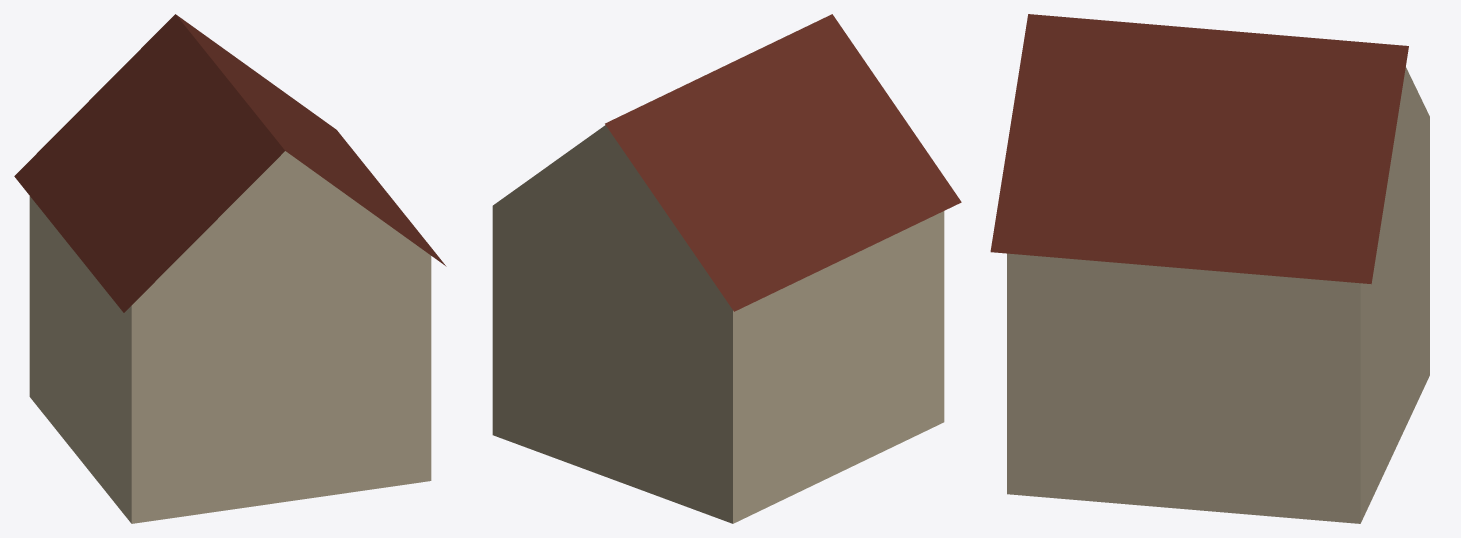
3 views of the same model, side by side, from view 1: azimuth 30°, elevation 25°; view 2: azimuth 150°, elevation 25°; view 3: azimuth 270°, elevation 25° (orthographic). The views are drawn at different scales.
Visible parts, largest first — view 1: buildings; view 2: buildings; view 3: buildings.
Boxes of the visible parts, <box> form: buildings: <box>14,14,446,523</box>; buildings: <box>492,14,961,523</box>; buildings: <box>990,14,1429,523</box>.
Bounding box in the file's own units: 9.75 × 9.56 × 9.77.
